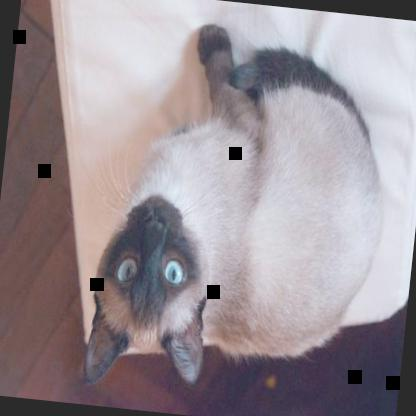cat: (80, 13, 400, 416)
